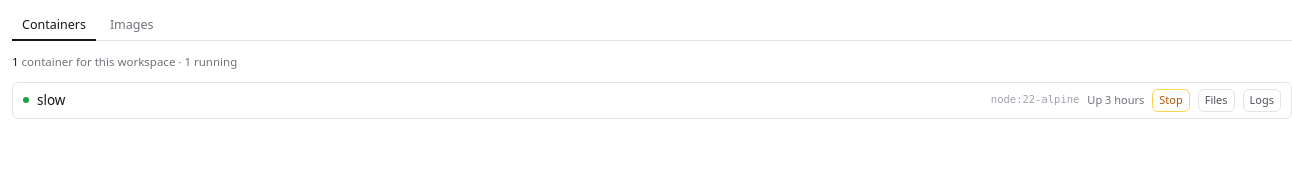
it: AC-7 — the row shows what IS, not what was asked › a 409 says it did not stop in time, and leaves the row alone
The image size is (1292, 193).
What coordinates should you click on to do the following:
click the button with test id "docker-act-slow"
I would click on:
 (1171, 100)
Its box is x1=1152 y1=89 x2=1190 y2=112.
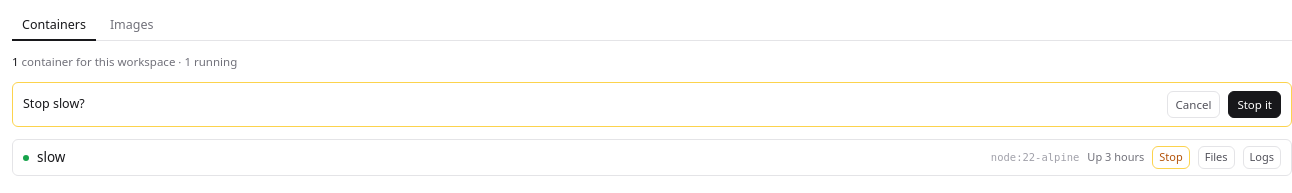
What coordinates should you click on to do the following:
click the button with test id "docker-confirm-go"
I would click on:
 (1255, 105)
Its box is x1=1228 y1=91 x2=1281 y2=118.
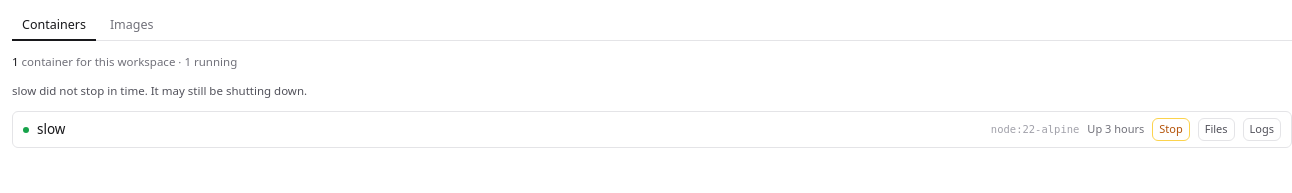
Now the text with test id "docker-action-note" shows "did not stop in time", box x1=12 y1=83 x2=307 y2=98
